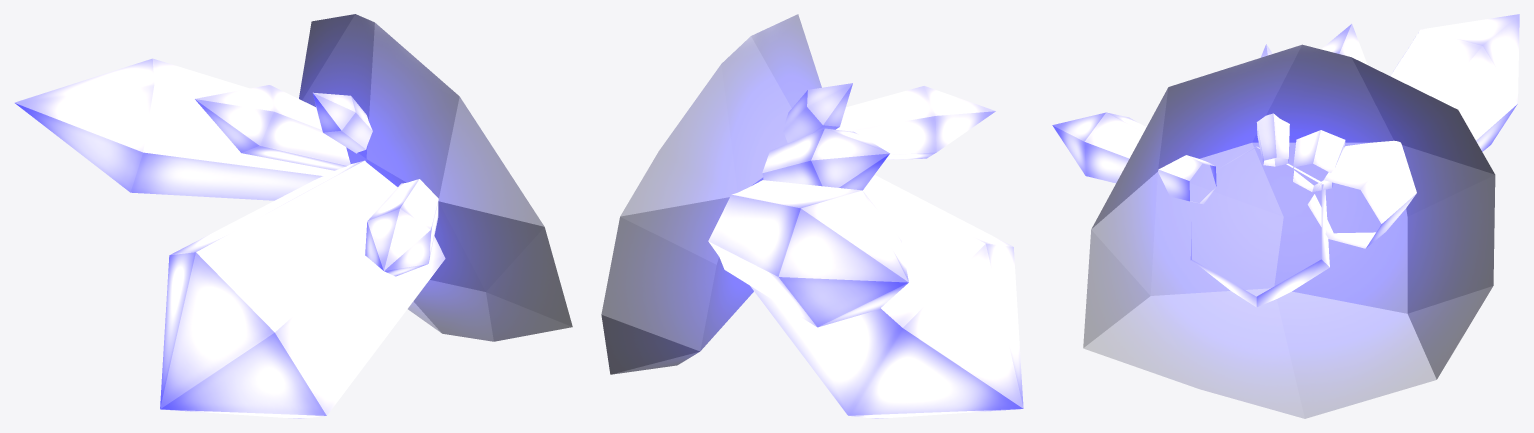
The model's file is Crystal_03.fbx.
3 views of the same model, side by side, from view 1: azimuth 30°, elevation 25°; view 2: azimuth 150°, elevation 25°; view 3: azimuth 270°, elevation 25° (orthographic). The views are drawn at different scales.
Visible parts, largest first — view 1: pCylinder6; view 2: pCylinder6; view 3: pCylinder6.
Boxes of the visible parts, <box> form: pCylinder6: <box>14,14,572,418</box>; pCylinder6: <box>601,14,1023,418</box>; pCylinder6: <box>1052,14,1519,418</box>.
Bounding box in the file's own units: 12.82 × 12.59 × 14.48.
